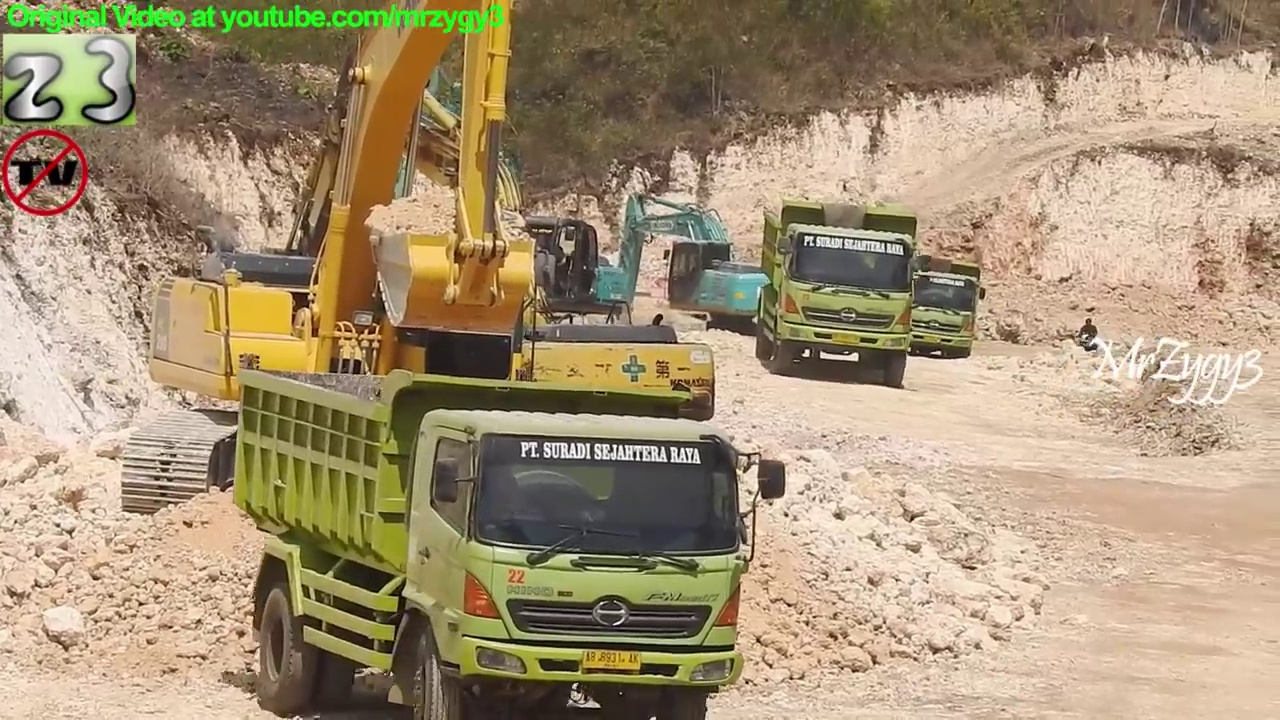excavator: (114, 1, 585, 528), (206, 7, 727, 465), (319, 36, 641, 347), (589, 188, 793, 337)
truck: (227, 355, 793, 720), (751, 196, 933, 398), (877, 245, 992, 364)
